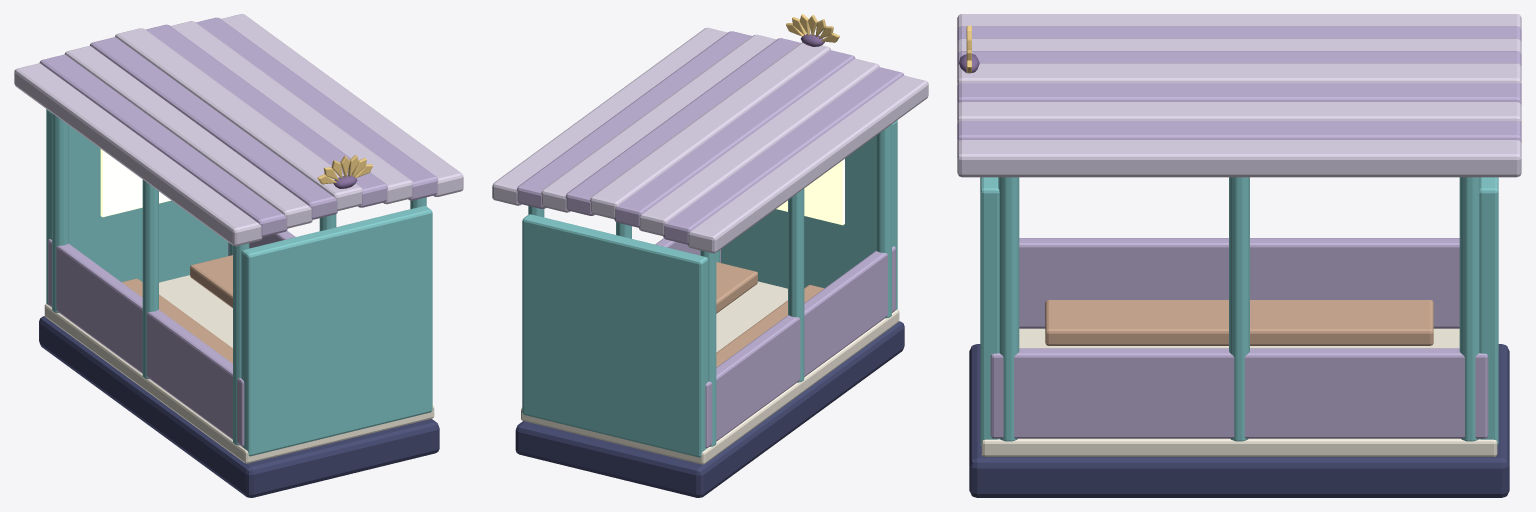
The model's file is lagoon_train_coach.glb.
3 views of the same model, side by side, from view 1: azimuth 30°, elevation 25°; view 2: azimuth 150°, elevation 25°; view 3: azimuth 270°, elevation 25° (orthographic). The views are drawn at different scales.
Parts seen in each view (by area): view 1: lagoon_train_coach.001; view 2: lagoon_train_coach.001; view 3: lagoon_train_coach.001.
Boxes of the visible parts, box(x1,y1,x2,y2) form: lagoon_train_coach.001: box(14, 14, 463, 497); lagoon_train_coach.001: box(492, 14, 928, 497); lagoon_train_coach.001: box(957, 14, 1521, 497).
Size of the model in its own units: 5.6 by 7.46 by 9.3.
